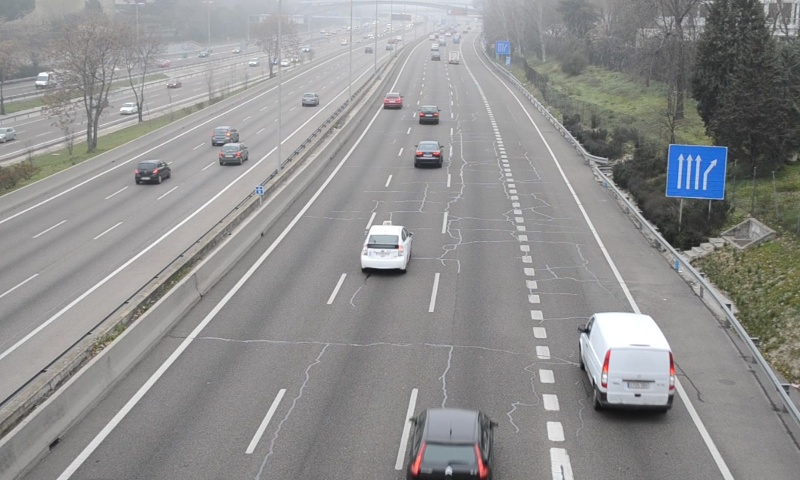car: (404, 410, 494, 480), (361, 224, 408, 270), (414, 140, 444, 168), (418, 103, 440, 124), (383, 91, 403, 109)
van: (578, 312, 675, 412)
